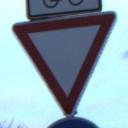preferencia: (8, 9, 121, 121)
